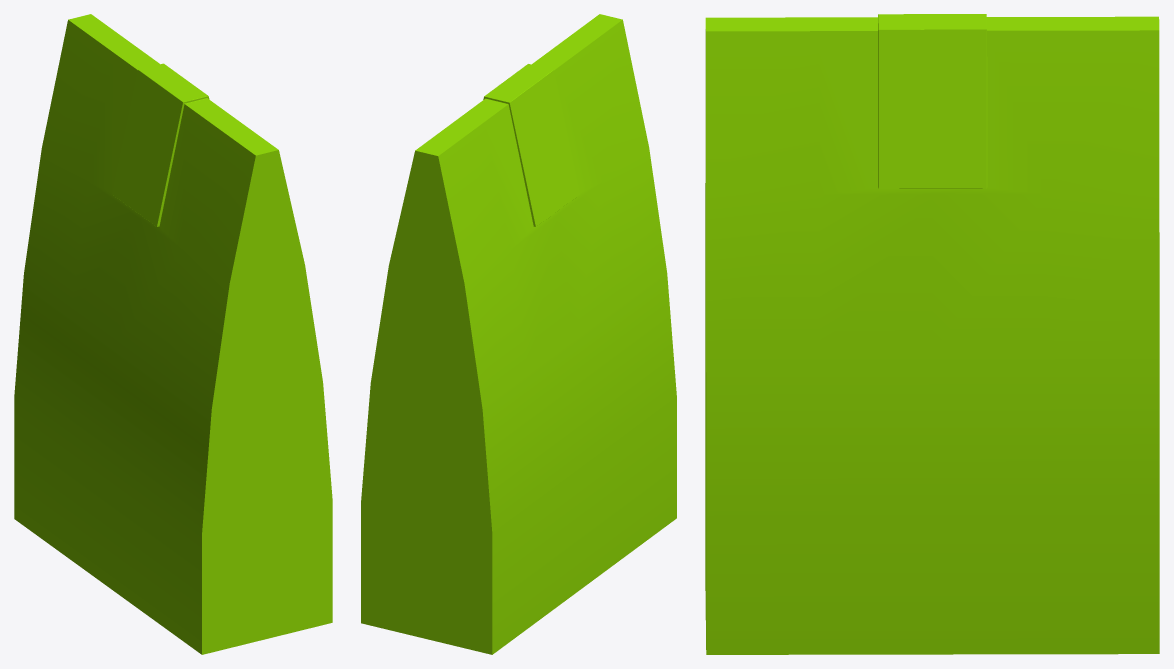
Rendered from coffeeBag.fbx.
3 views of the same model, side by side, from view 1: azimuth 30°, elevation 25°; view 2: azimuth 150°, elevation 25°; view 3: azimuth 270°, elevation 25° (orthographic). The views are drawn at different scales.
Visible parts, largest first — view 1: polySurface32; view 2: polySurface32; view 3: polySurface32.
Boxes of the visible parts, bbox=[...] form: polySurface32: bbox=[14, 14, 332, 654]; polySurface32: bbox=[361, 14, 676, 654]; polySurface32: bbox=[705, 14, 1159, 654].
Bounding box in the file's own units: 5.17 × 18.19 × 12.61.
